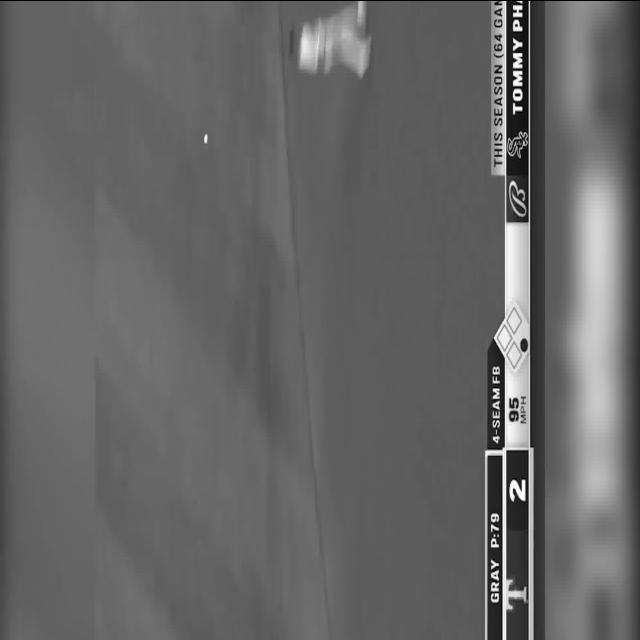baseball: (204, 133, 209, 142)
